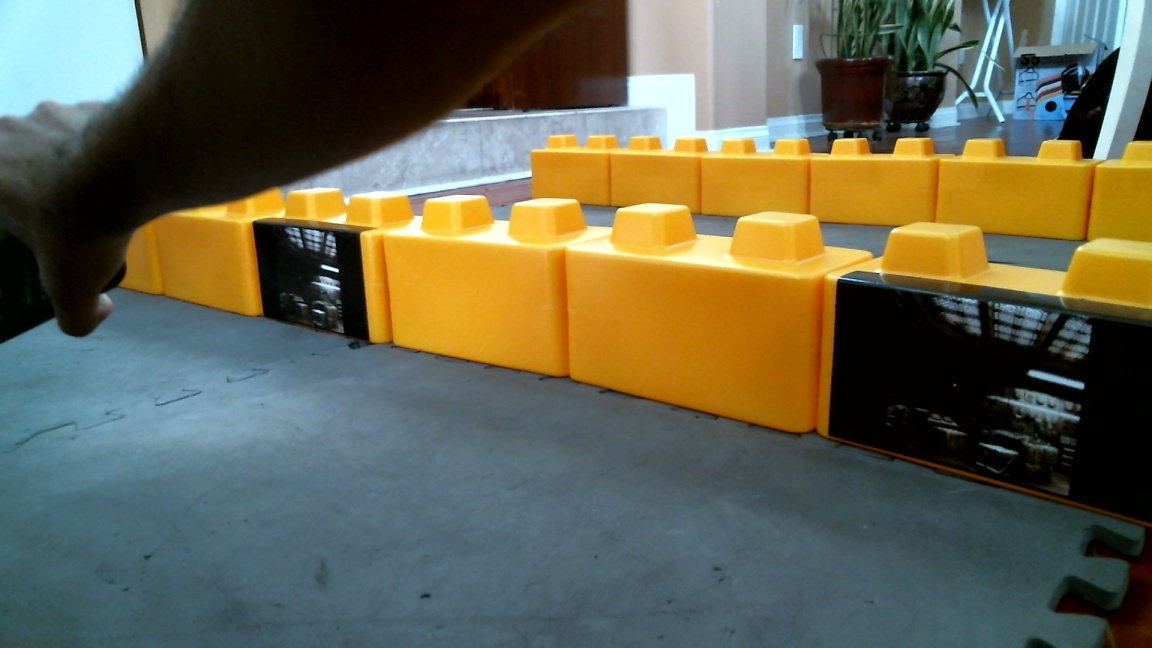skystone: (834, 214, 1143, 528)
stone: (564, 190, 815, 442), (388, 188, 562, 376), (261, 182, 386, 351), (155, 208, 264, 320)
